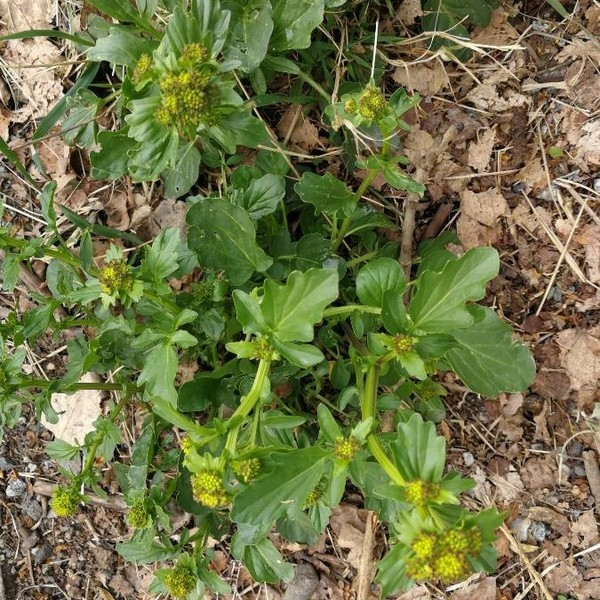obstacle: (97, 65, 452, 571)
